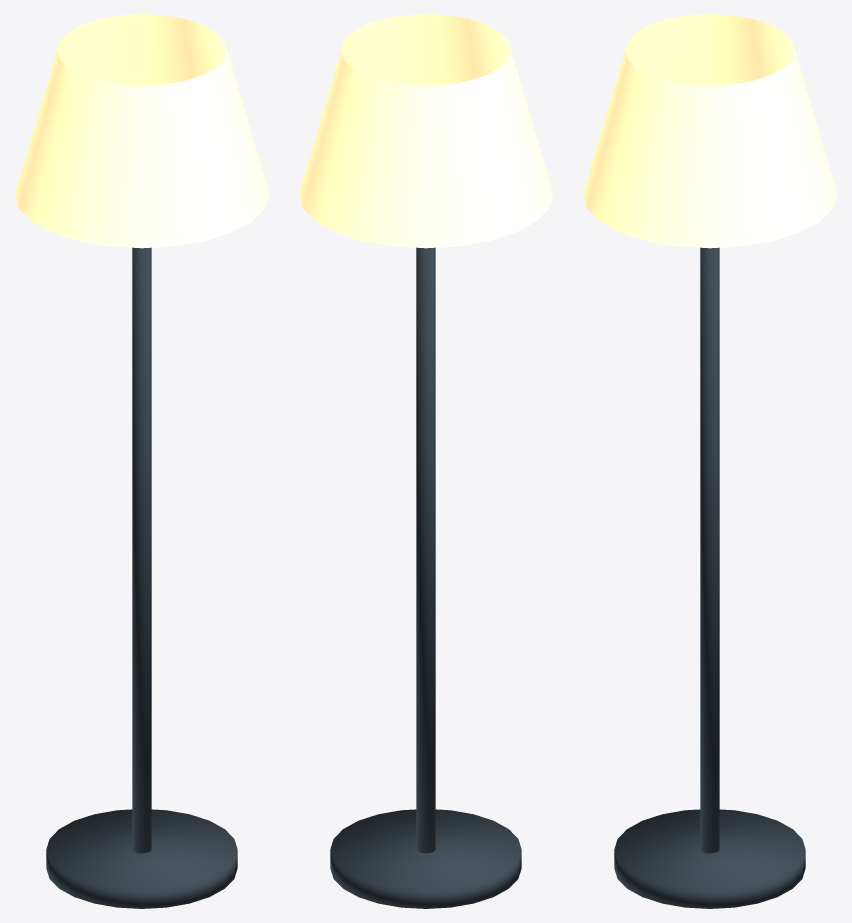
Rendered from floor_lamp.glb.
The picture shows the model from 3 angles, left to right: view 1: azimuth 30°, elevation 25°; view 2: azimuth 150°, elevation 25°; view 3: azimuth 270°, elevation 25°; orthographic projection.
Visible parts, largest first — view 1: shade, base, pole; view 2: shade, base, pole; view 3: shade, base, pole.
Part boxes in pixels (box(x1,y1,x2,y2)): shade: box(14, 14, 269, 248); base: box(46, 809, 237, 908); pole: box(132, 247, 151, 853); shade: box(298, 14, 553, 248); base: box(330, 809, 521, 908); pole: box(416, 247, 435, 853); shade: box(582, 14, 837, 248); base: box(614, 809, 805, 908); pole: box(700, 247, 719, 853).
Bounding box in the file's own units: 0.48 × 1.7 × 0.48.
